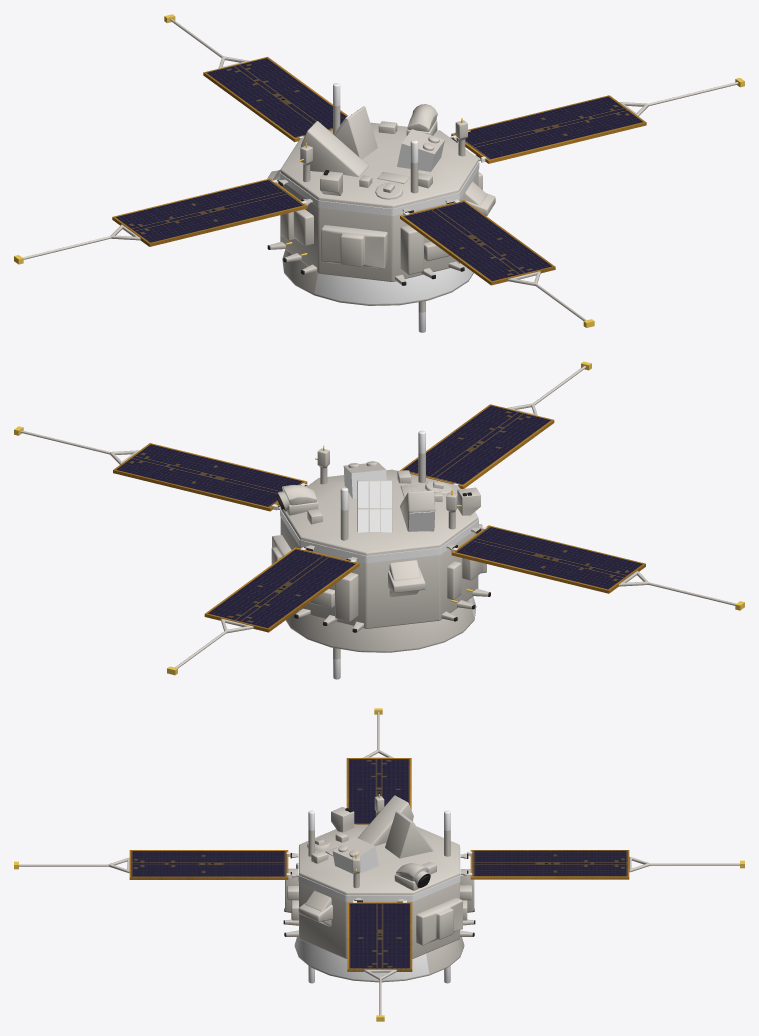
The model's file is ace.gltf.
3 views of the same model, one above another, from view 1: azimuth 30°, elevation 25°; view 2: azimuth 150°, elevation 25°; view 3: azimuth 270°, elevation 25° (orthographic). The views are drawn at different scales.
Parts seen in each view (by area): view 1: BUS, solar_array, array_brace, SIS; view 2: BUS, solar_array, intrument_metal, array_brace, SIS; view 3: BUS, solar_array, array_brace, SIS.
Part boxes in pixels (x1,y1,x2,y2): BUS: [267, 83, 495, 332]; solar_array: [14, 14, 744, 327]; array_brace: [279, 161, 479, 215]; SIS: [397, 129, 444, 171]; BUS: [271, 430, 490, 679]; solar_array: [14, 361, 744, 675]; intrument_metal: [358, 481, 434, 532]; array_brace: [280, 508, 478, 563]; SIS: [343, 461, 386, 499]; BUS: [283, 795, 475, 983]; solar_array: [14, 708, 744, 1021]; array_brace: [298, 847, 460, 901]; SIS: [332, 836, 378, 873].
Bounding box in the file's own units: 7.41 × 1.87 × 7.41.
7 materials, 1 textured.
